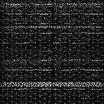lte: (1, 81, 104, 87), (1, 25, 104, 28)
